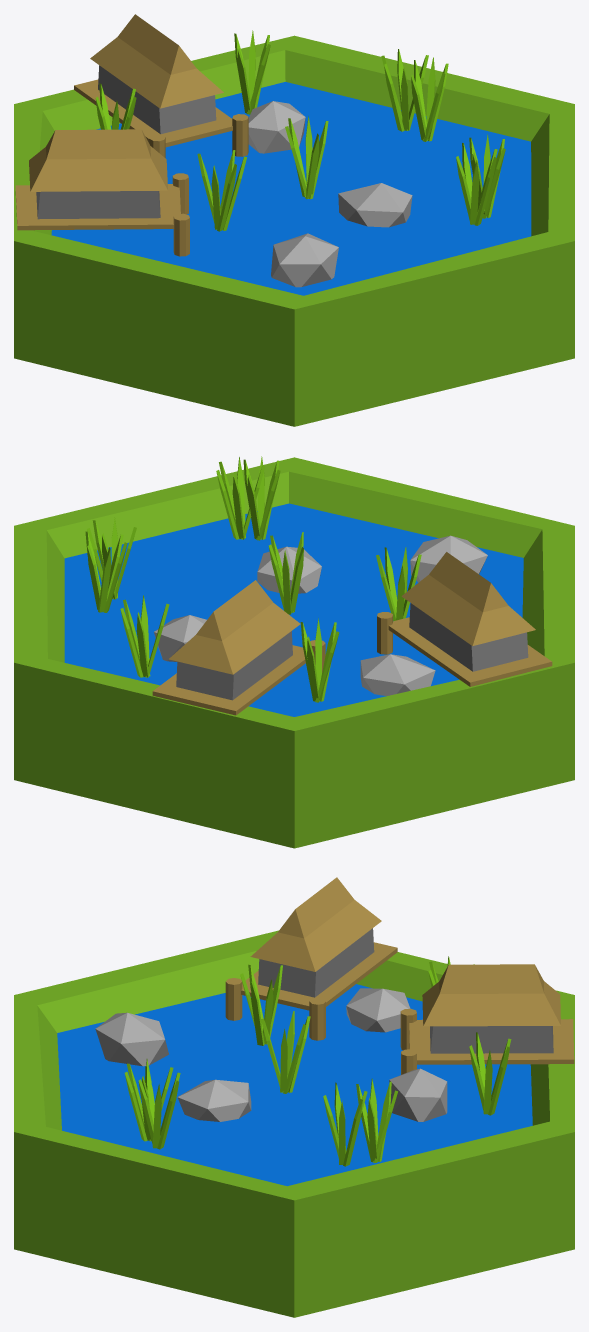
Rendered from Casas_Lago_Cerrado_2.fbx.
The picture shows the model from 3 angles, top to bottom: view 1: azimuth 30°, elevation 25°; view 2: azimuth 150°, elevation 25°; view 3: azimuth 270°, elevation 25°; orthographic projection.
Visible parts, largest first — view 1: Casas_Lago_Cerrado_2; view 2: Casas_Lago_Cerrado_2; view 3: Casas_Lago_Cerrado_2.
Part boxes in pixels (x1,y1,x2,y2): Casas_Lago_Cerrado_2: [14, 14, 574, 426]; Casas_Lago_Cerrado_2: [14, 456, 574, 848]; Casas_Lago_Cerrado_2: [14, 877, 574, 1317].
Size of the model in its own units: 200 by 67.29 by 173.
